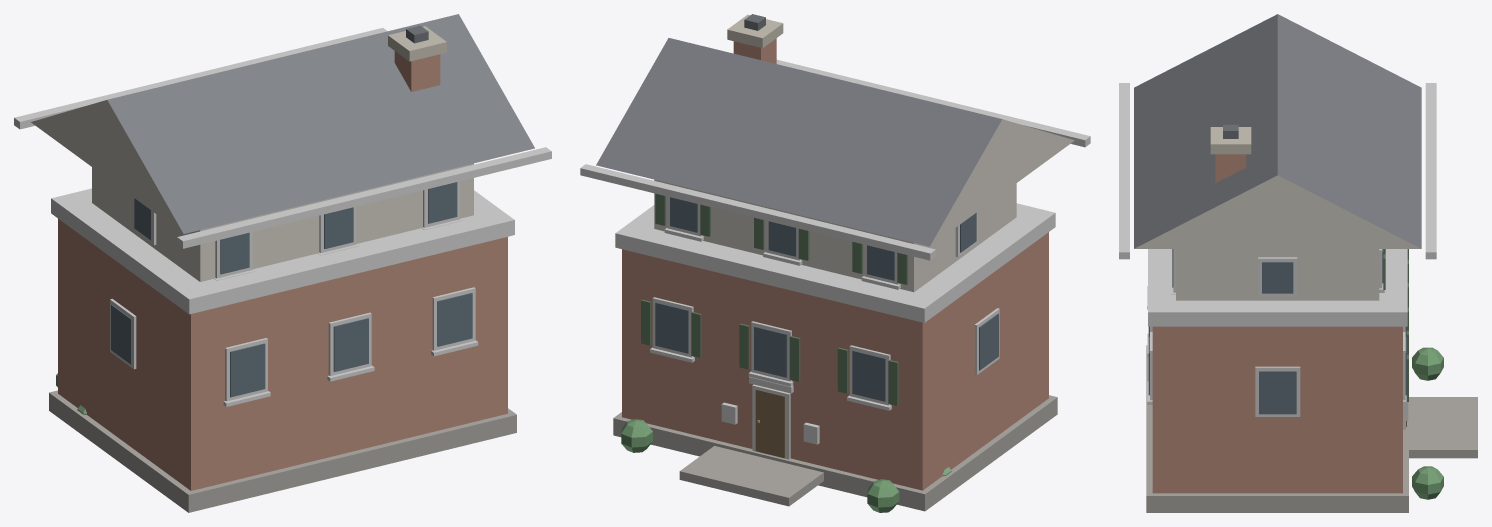
The model's file is colonial_brick.glb.
The picture shows the model from 3 angles, left to right: view 1: azimuth 30°, elevation 25°; view 2: azimuth 150°, elevation 25°; view 3: azimuth 270°, elevation 25°; orthographic projection. The views are drawn at different scales.
Visible parts, largest first — view 1: Mesh; view 2: Mesh; view 3: Mesh.
Part boxes in pixels (left/top/right/bottom): Mesh: left=14, top=14, right=551, bottom=512; Mesh: left=580, top=14, right=1090, bottom=512; Mesh: left=1119, top=14, right=1477, bottom=512.
Size of the model in its own units: 12.8 by 12.75 by 11.47.
